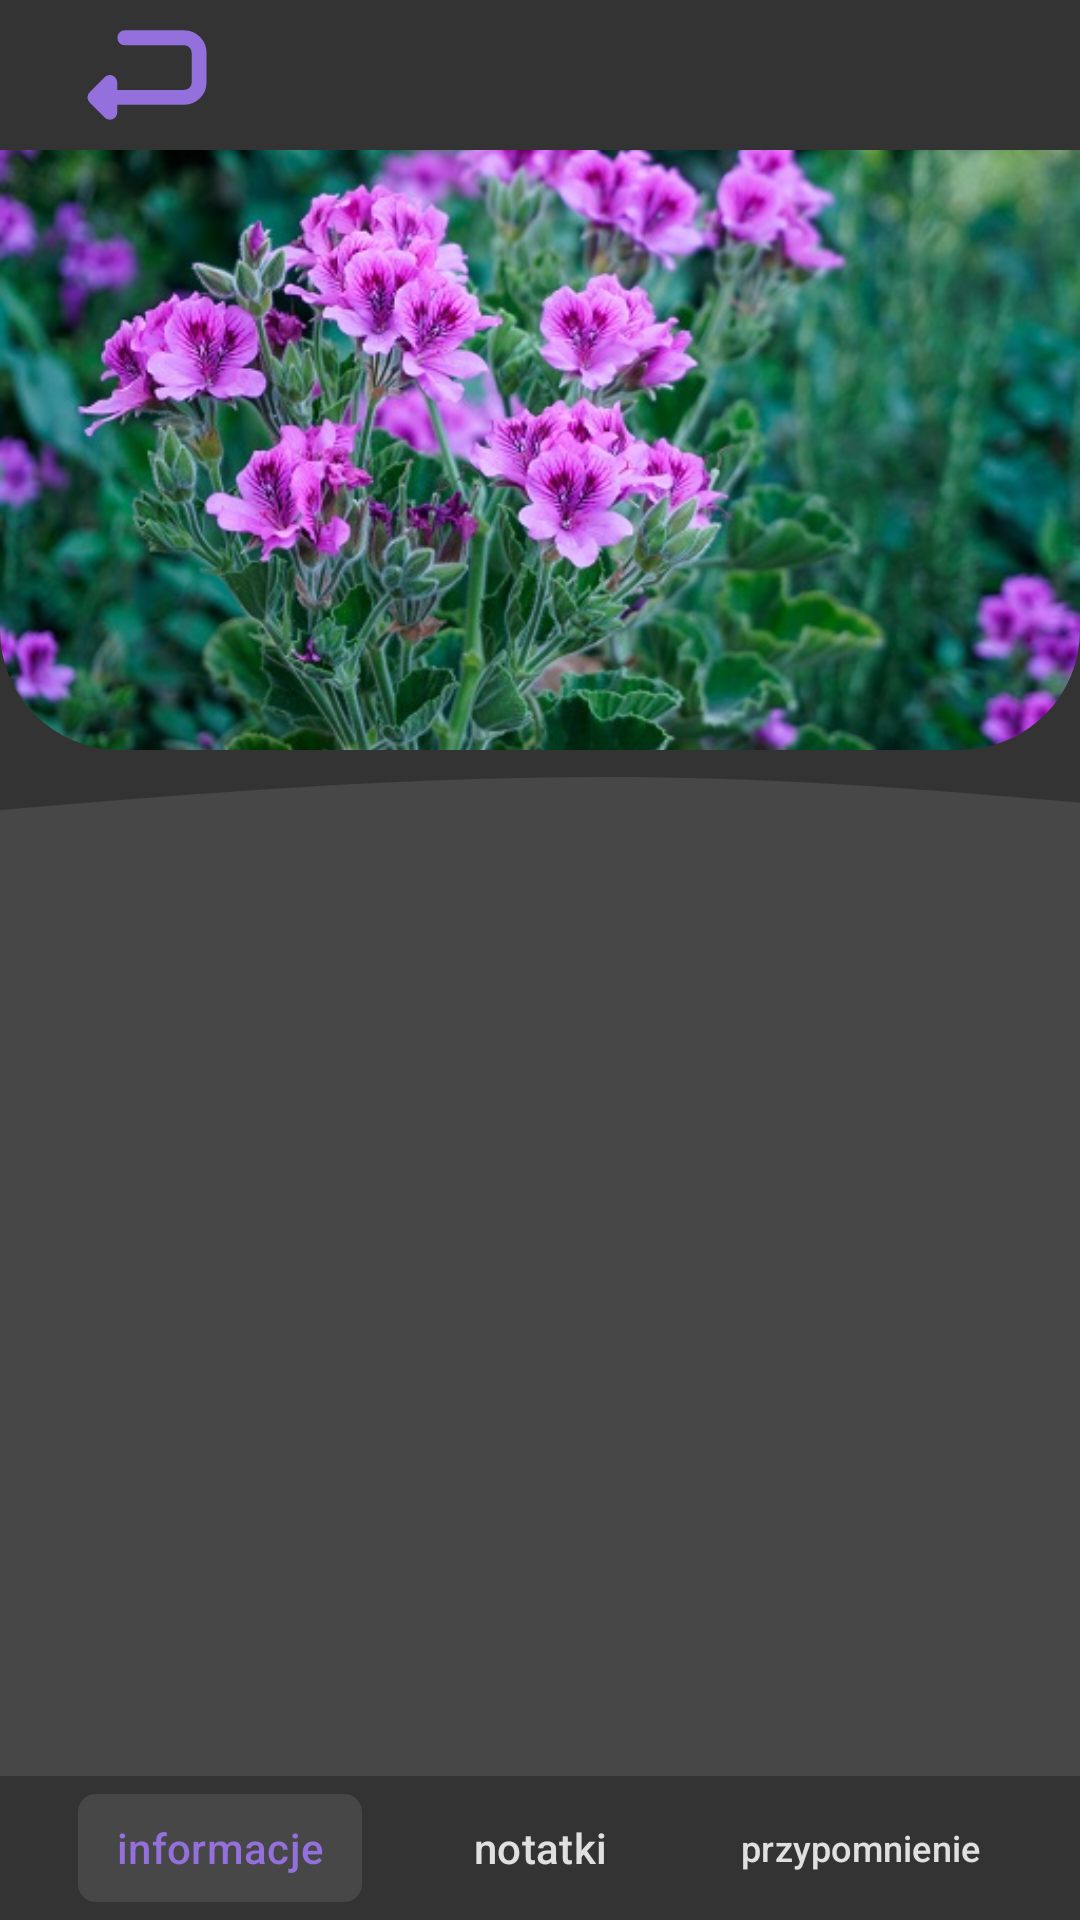

Where to tap for icons on this 1080x1920 app screen, as (x,y):
return: (147,75)
